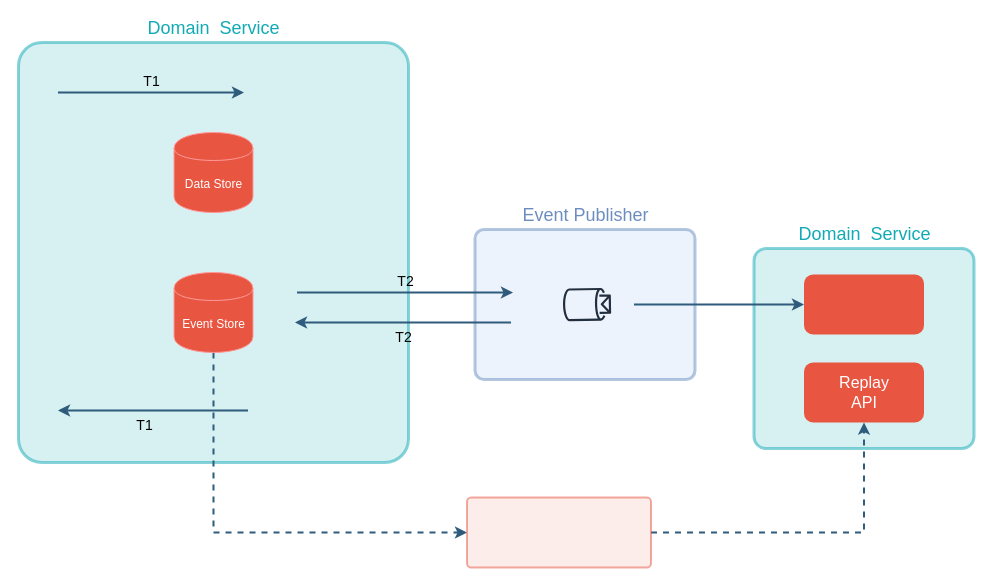
Some shapes in this 993 by 585 pixel diagram are drawn without their labels. Each missing label, with the box of its shape:
Event Consumer: (804, 274, 924, 334)
Replay Service: (466, 496, 652, 568)
Topic/Queue: (556, 273, 618, 335)
